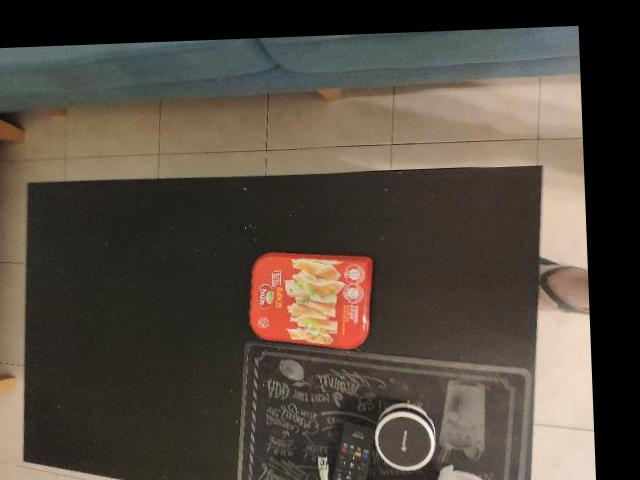cheese: (246, 248, 376, 353)
